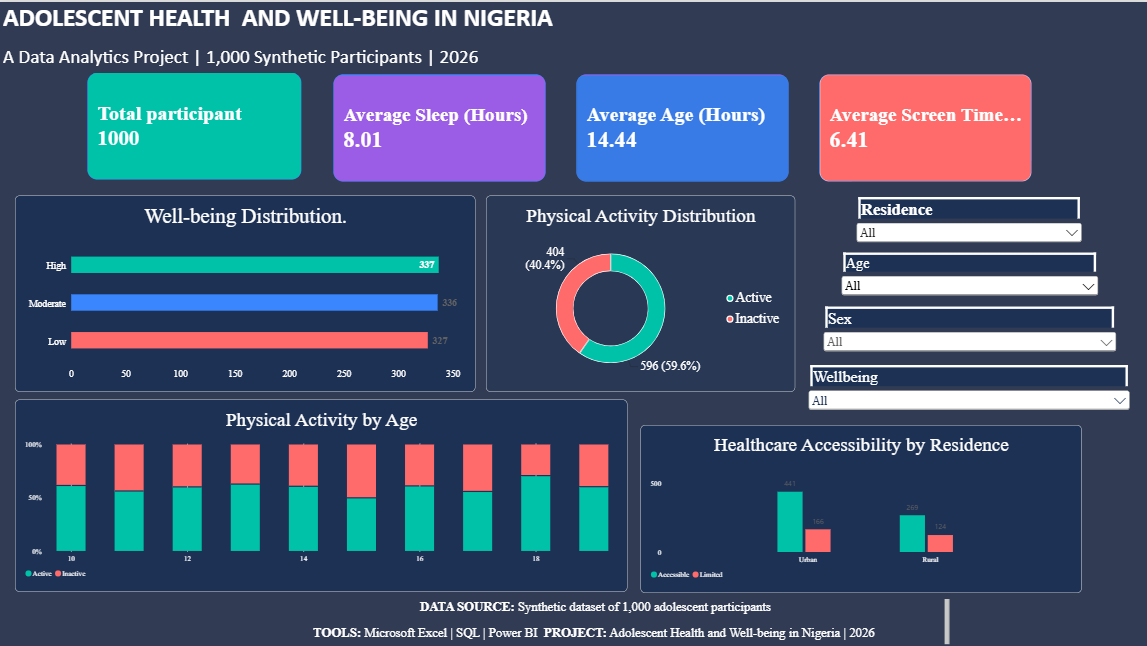

Layout of this report page (visuals, bound fields, positions):
{"tool":"powerbi","page":{"name":"Page 1","canvas":[1920,1080],"ordinal":0},"visuals":[{"type":"textbox","box":[9.5,0,1359.5,119],"z":0},{"type":"cardVisual","fields":{"Data":["CountNonNull(Adolescent health analysis.Age (years))"]},"box":[150.9,117,358.5,179.2],"z":1000},{"type":"cardVisual","fields":{"Data":["Avg(Adolescent health analysis.Sleep_Hours)"]},"box":[558.9,120,355.6,180],"z":2000},{"type":"cardVisual","fields":{"Data":["Avg(Adolescent health analysis.Screen_Time_Hours)"]},"box":[1368.9,120,355.6,180],"z":3000},{"type":"cardVisual","fields":{"Data":["Avg(Adolescent health analysis.Age)"]},"box":[963.9,120,355.6,180],"z":4000},{"type":"donutChart","title":"Physical Activity Distribution","fields":{"Category":["Adolescent health analysis.Physical activity"],"Y":["CountNonNull(Adolescent health analysis.Participant ID)"]},"box":[815,322.5,515,327.5],"z":5000},{"type":"clusteredBarChart","title":"Well-being Distribution.","fields":{"Category":["Adolescent health analysis.Wellbeing"],"Y":["CountNonNull(Adolescent health analysis.Participant ID)"]},"box":[30,322.5,767.5,327.5],"z":6000},{"type":"hundredPercentStackedColumnChart","title":"Physical Activity by Age","fields":{"Category":["Adolescent health analysis.Age"],"Series":["Adolescent health analysis.Physical activity"],"Y":["CountNonNull(Adolescent health analysis.Participant ID)"]},"box":[30,662.5,1020.8,320.8],"z":7000},{"type":"clusteredColumnChart","title":"Healthcare Accessibility by Residence","fields":{"Category":["Adolescent health analysis.Residence"],"Series":["Adolescent health analysis.Healthcare_Access"],"Y":["CountNonNull(Adolescent health analysis.Participant ID)"]},"box":[1072.5,705,735,280],"z":8000},{"type":"textbox","box":[410,995,1177.5,85],"z":9000},{"type":"textbox","box":[100,100,102.9,300],"z":10000},{"type":"slicer","fields":{"Values":["Adolescent health analysis.Residence"]},"box":[1428.1,325,385,82.5],"z":11000},{"type":"slicer","fields":{"Values":["Adolescent health analysis.Age (years)"]},"box":[1401.9,417.5,437.5,117.5],"z":12000},{"type":"slicer","fields":{"Values":["Adolescent health analysis.Sex"]},"box":[1371.9,507.5,497.5,90],"z":13000},{"type":"slicer","fields":{"Values":["Adolescent health analysis.Wellbeing"]},"box":[1348.1,605,545,82.5],"z":14000}]}

Visuals, with their boxes in screenshot pixels (x1, y1, x2, y2), scaled from the page's 1920x1080 canvas onto the 1147x646 screenshot:
textbox: 6/0/818/71
cardVisual - CountNonNull(Adolescent health analysis.Age (years)): 90/70/304/177
cardVisual - Avg(Adolescent health analysis.Sleep_Hours): 334/72/546/179
cardVisual - Avg(Adolescent health analysis.Screen_Time_Hours): 818/72/1030/179
cardVisual - Avg(Adolescent health analysis.Age): 576/72/788/179
"Physical Activity Distribution" donutChart: 487/193/795/389
"Well-being Distribution." clusteredBarChart: 18/193/476/389
"Physical Activity by Age" hundredPercentStackedColumnChart: 18/396/628/588
"Healthcare Accessibility by Residence" clusteredColumnChart: 641/422/1080/589
textbox: 245/595/948/645
textbox: 60/60/121/239
slicer - Adolescent health analysis.Residence: 853/194/1083/244
slicer - Adolescent health analysis.Age (years): 837/250/1099/320
slicer - Adolescent health analysis.Sex: 820/304/1117/357
slicer - Adolescent health analysis.Wellbeing: 805/362/1131/411
